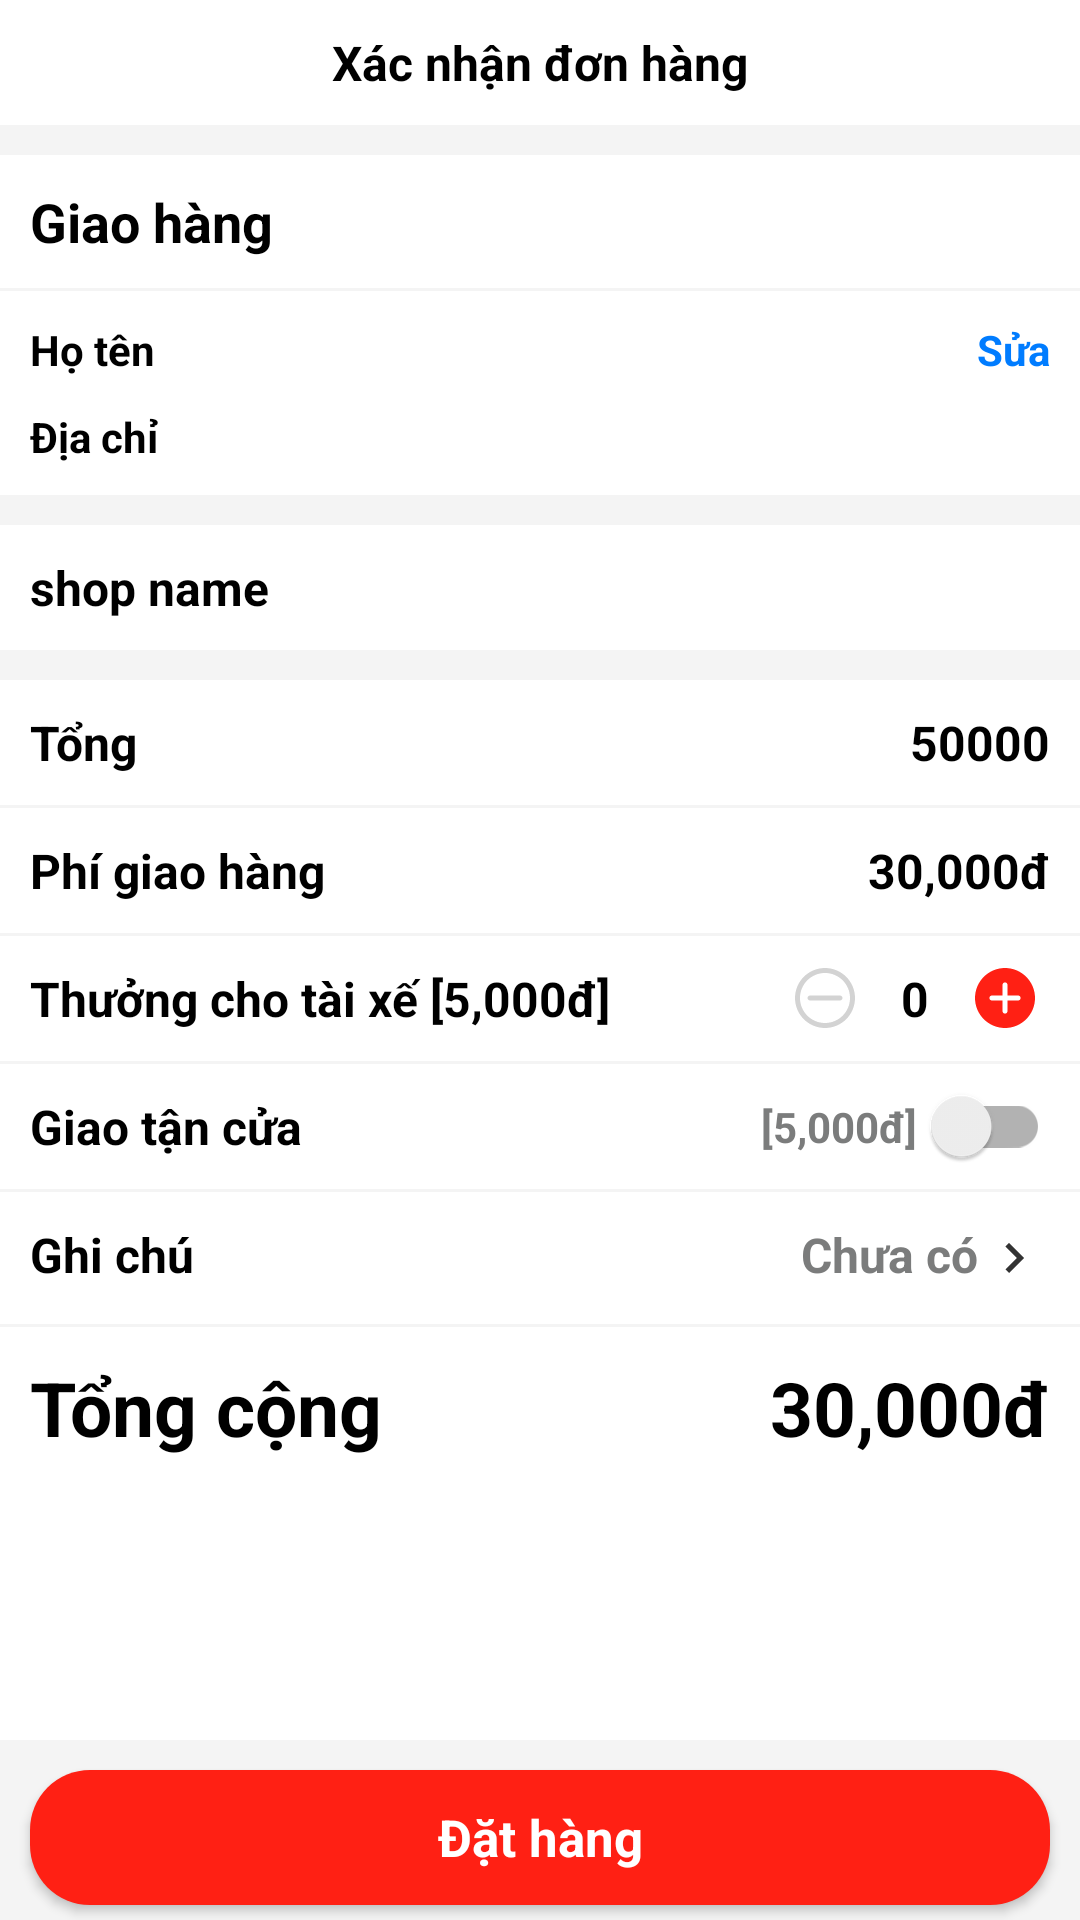

Icons on this 1080px x 1920px Android screen, each with the point to tap as point (x, y):
minus: point (825, 998)
plus: point (1005, 998)
